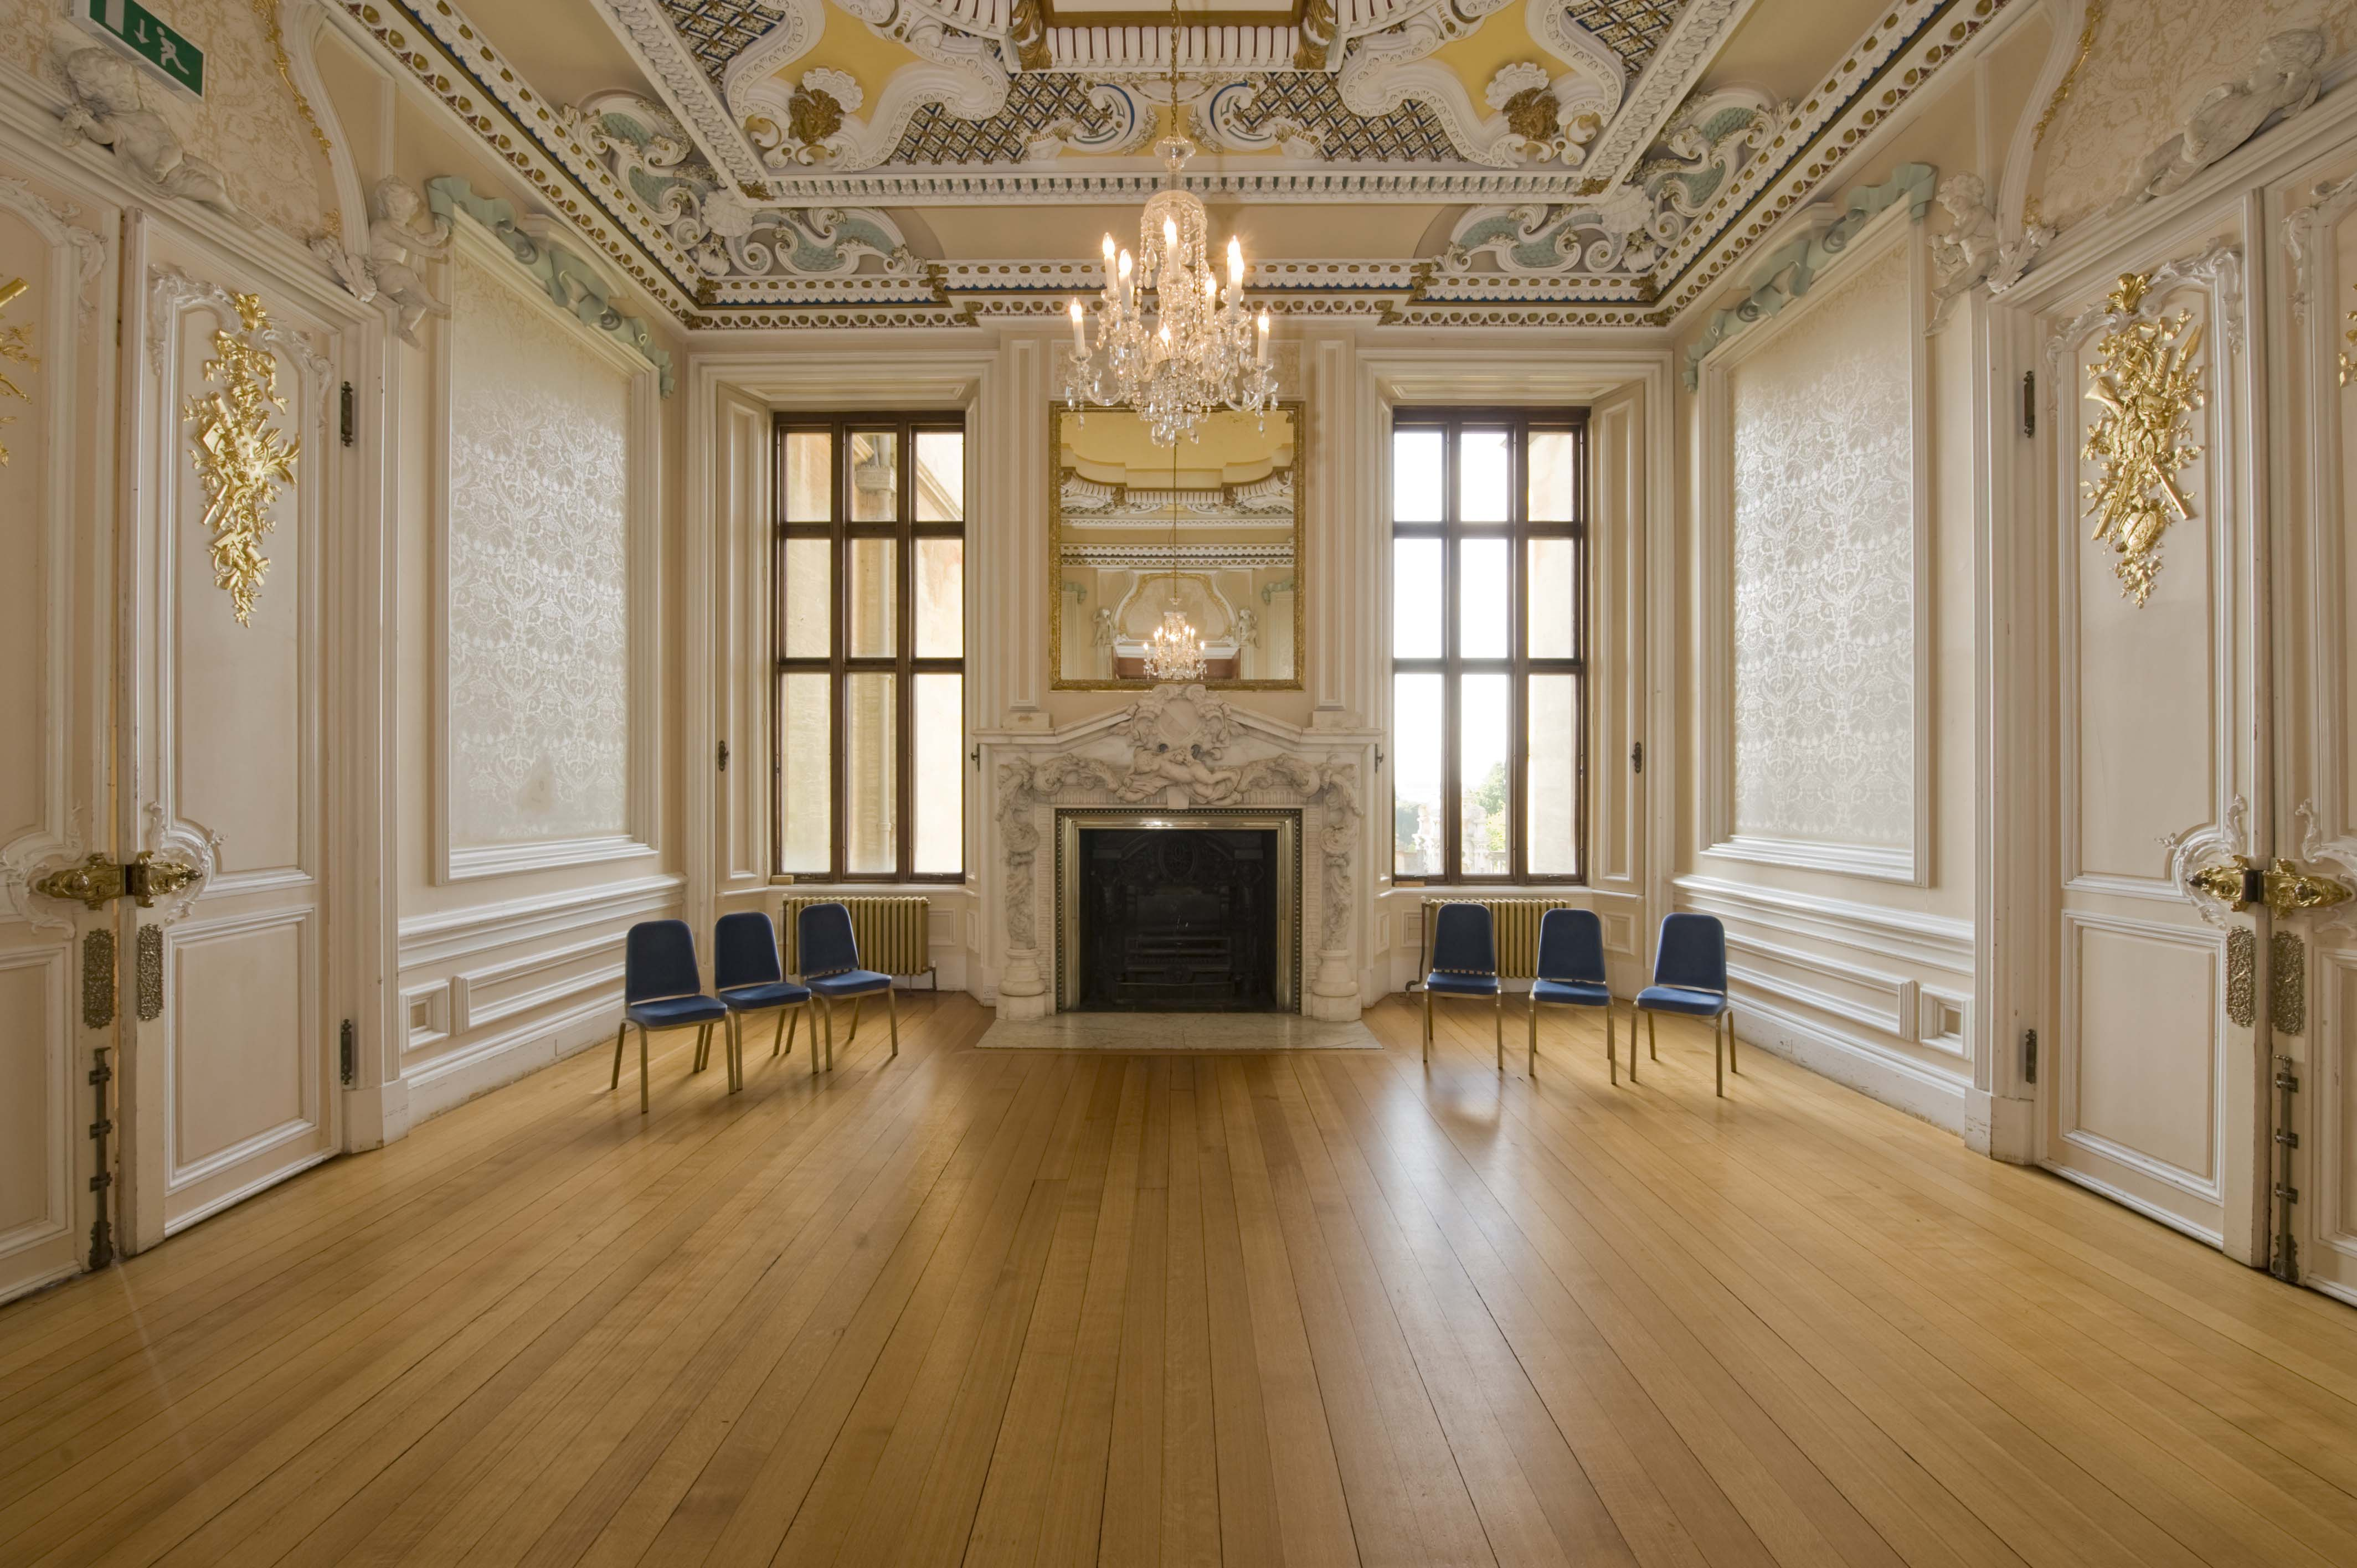chair: (1633, 912, 1752, 1088), (796, 901, 905, 1092), (625, 920, 726, 1113), (712, 913, 814, 1095), (1529, 912, 1615, 1080), (1423, 901, 1500, 1080)
